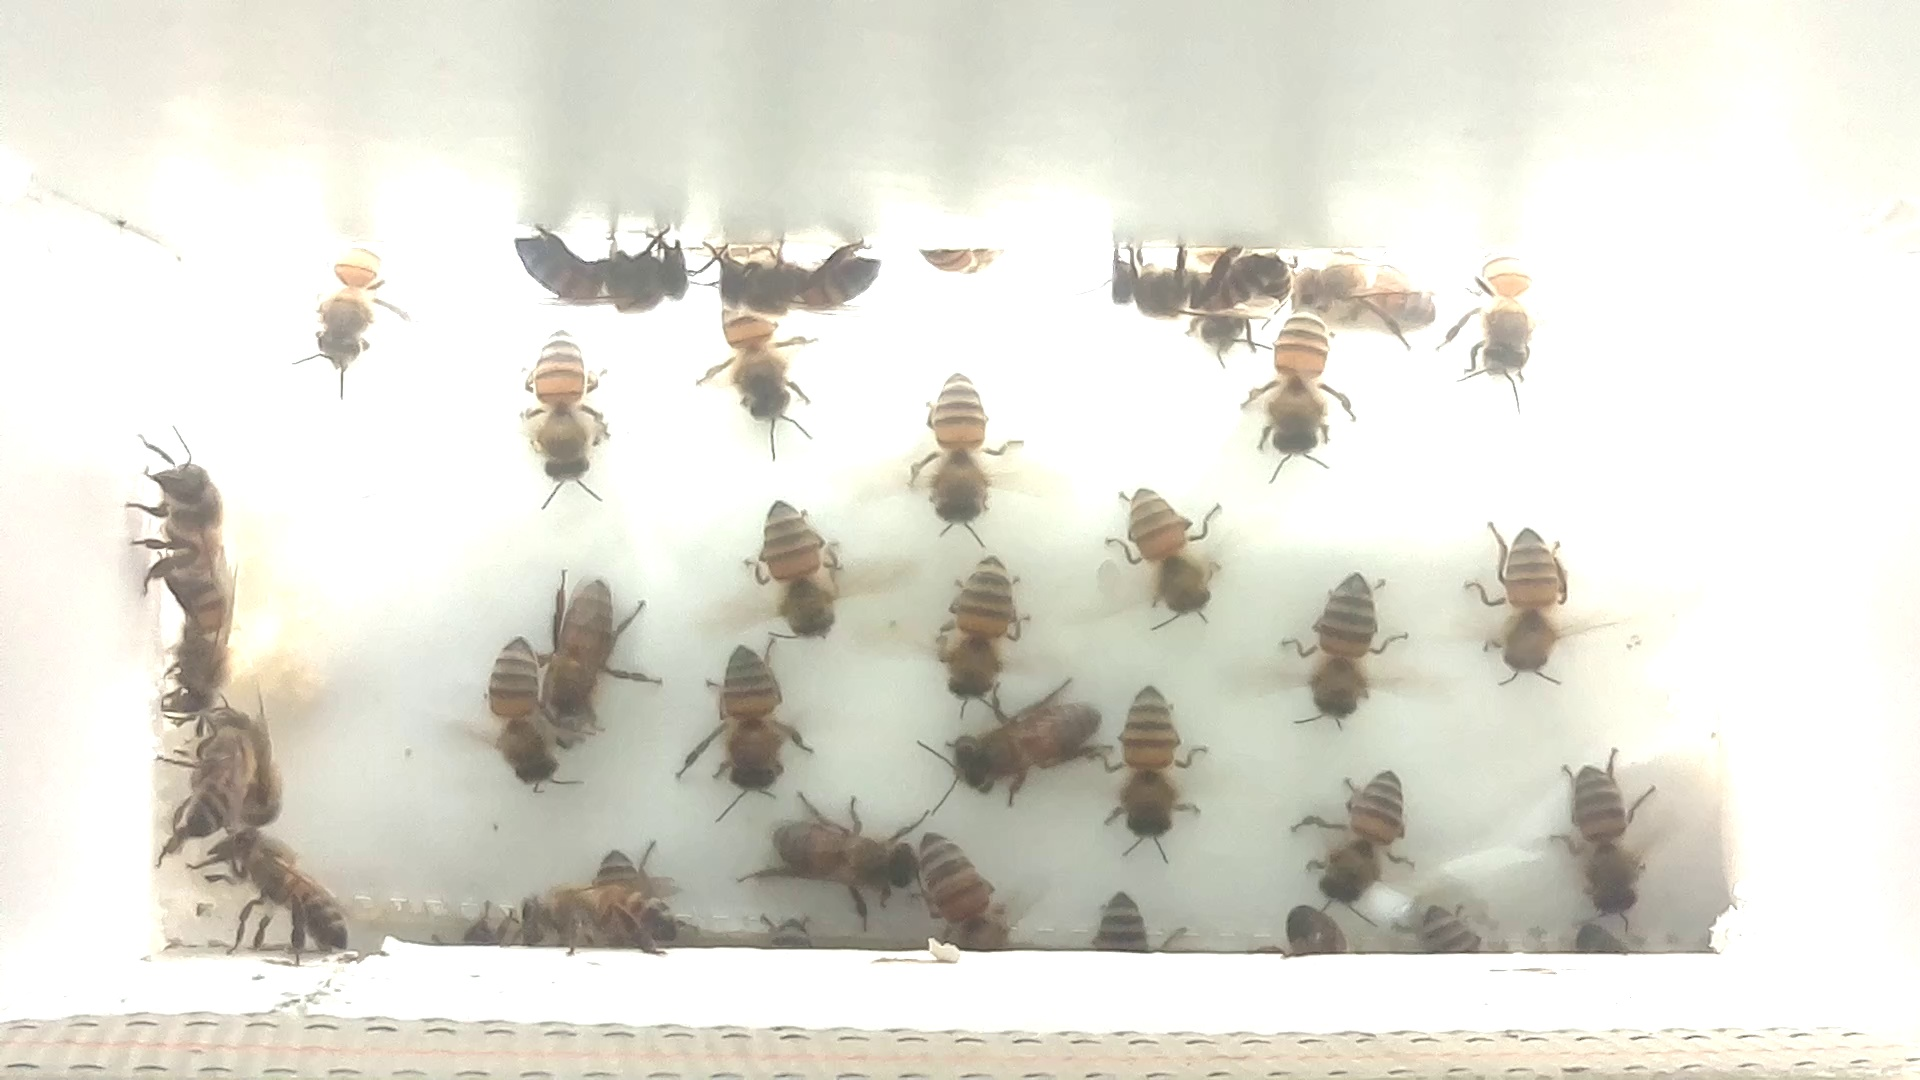bee: (1266, 731, 1440, 931), (1513, 729, 1680, 935), (916, 650, 1125, 808), (1448, 489, 1600, 705), (266, 211, 426, 404), (1261, 535, 1408, 742), (1089, 463, 1254, 646), (665, 626, 818, 814), (878, 371, 1039, 546), (1081, 665, 1213, 873), (721, 483, 886, 646), (534, 549, 669, 742), (448, 618, 584, 810), (745, 781, 926, 923), (194, 822, 363, 973), (500, 318, 626, 520), (1230, 291, 1366, 479), (121, 551, 265, 724), (913, 535, 1051, 713), (495, 833, 680, 964), (691, 298, 835, 463), (111, 419, 244, 593), (1444, 231, 1561, 426), (516, 222, 709, 324), (898, 825, 1036, 967), (1280, 228, 1443, 345), (166, 688, 284, 849), (704, 229, 887, 328), (1095, 239, 1288, 326), (1093, 884, 1189, 963), (1255, 889, 1354, 964), (1419, 898, 1493, 965)
